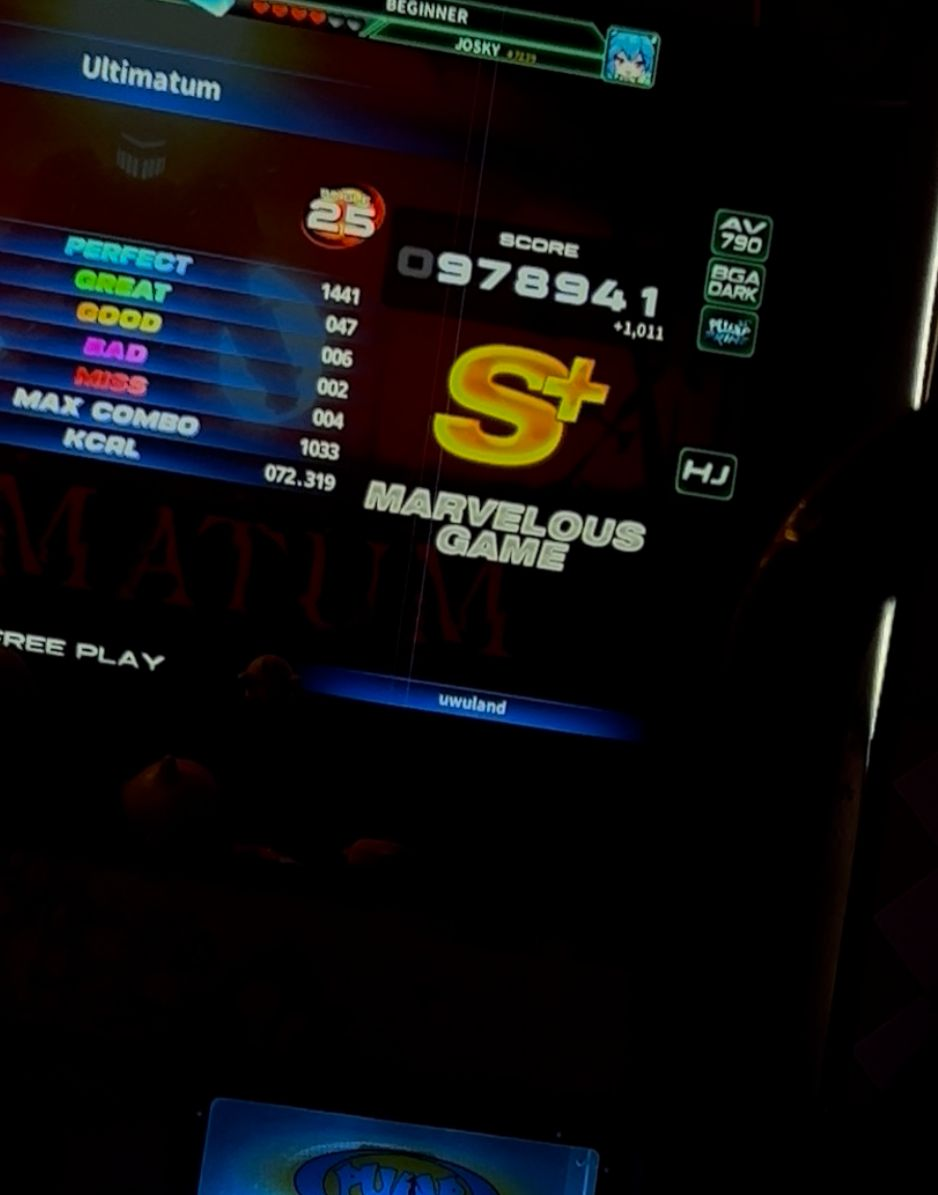difficulty: (281, 156, 384, 251)
fullscore: (226, 0, 896, 687)
rank: (406, 338, 629, 473)
score: (408, 194, 681, 322)
song_name: (4, 0, 423, 131)
